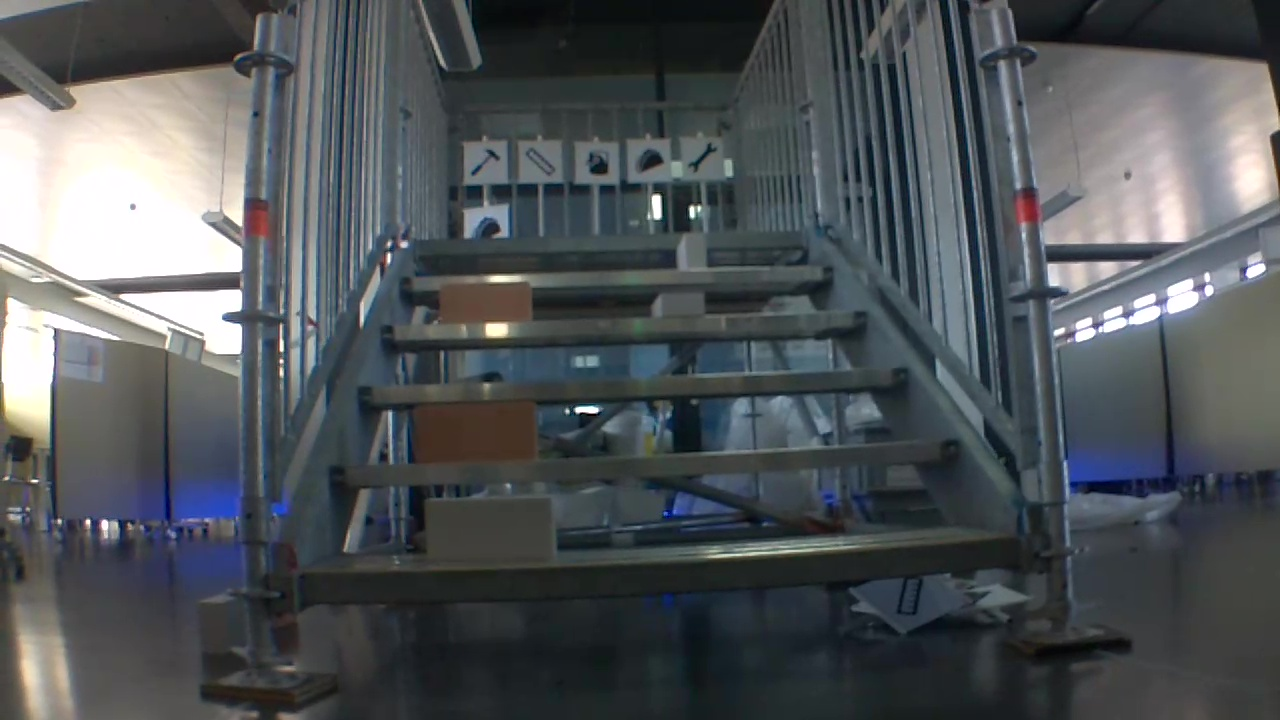brick: (427, 495, 557, 559), (417, 403, 535, 458), (442, 281, 531, 323), (204, 594, 242, 653), (651, 291, 703, 315), (676, 232, 705, 268)
bucket: (579, 146, 614, 178)
edge: (296, 535, 1014, 603), (330, 441, 956, 485), (357, 364, 911, 402), (380, 310, 870, 339), (400, 265, 832, 286), (416, 232, 805, 250)
hammer: (464, 144, 502, 179)
ruler: (521, 146, 558, 177)
stairs: (203, 4, 1132, 707)
steps: (290, 226, 1019, 612)
taco: (632, 143, 664, 175), (470, 211, 502, 241)
wrench: (682, 137, 722, 176)
